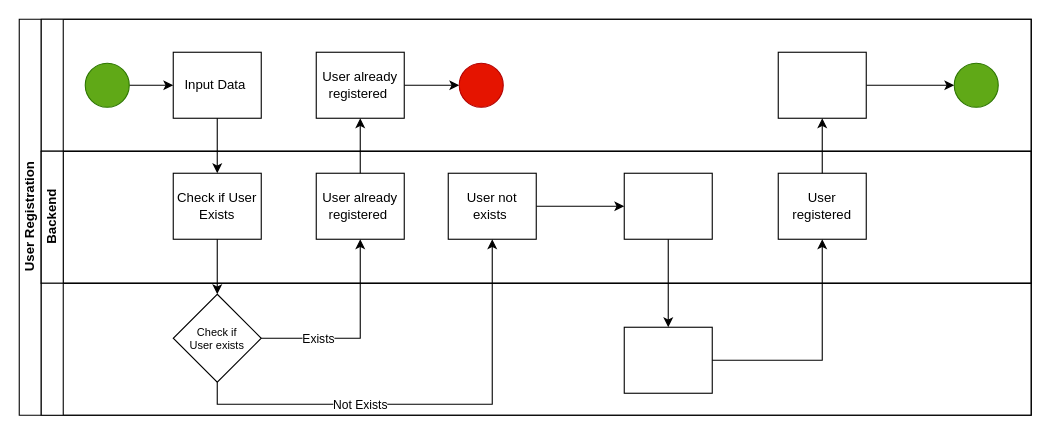
Image size: 1051x435. Some labels were removed from this diagram. Here are the shapes that lost their labels. From the top down, the box of each, then its label:
(40, 18, 1031, 151): Frontend
(777, 51, 866, 118): User registered successfully
(623, 172, 712, 239): Generate Password with Salt
(40, 282, 1031, 415): Database
(623, 326, 712, 393): Register User in DB
